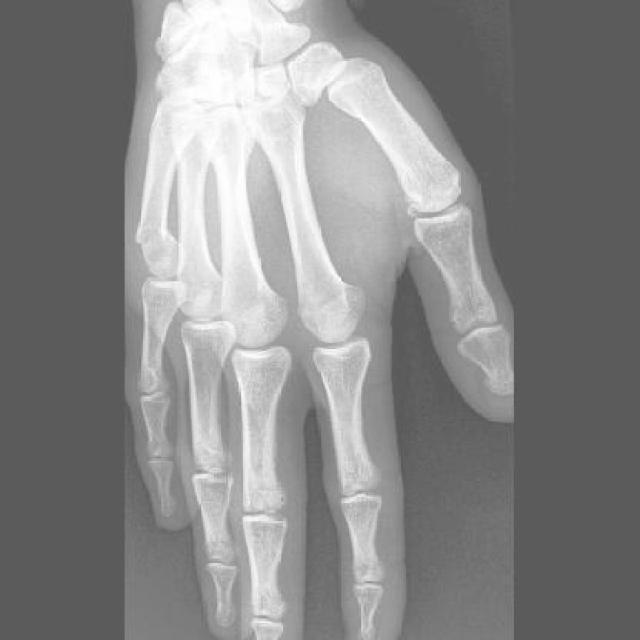Fracture: (133, 221, 179, 274)
